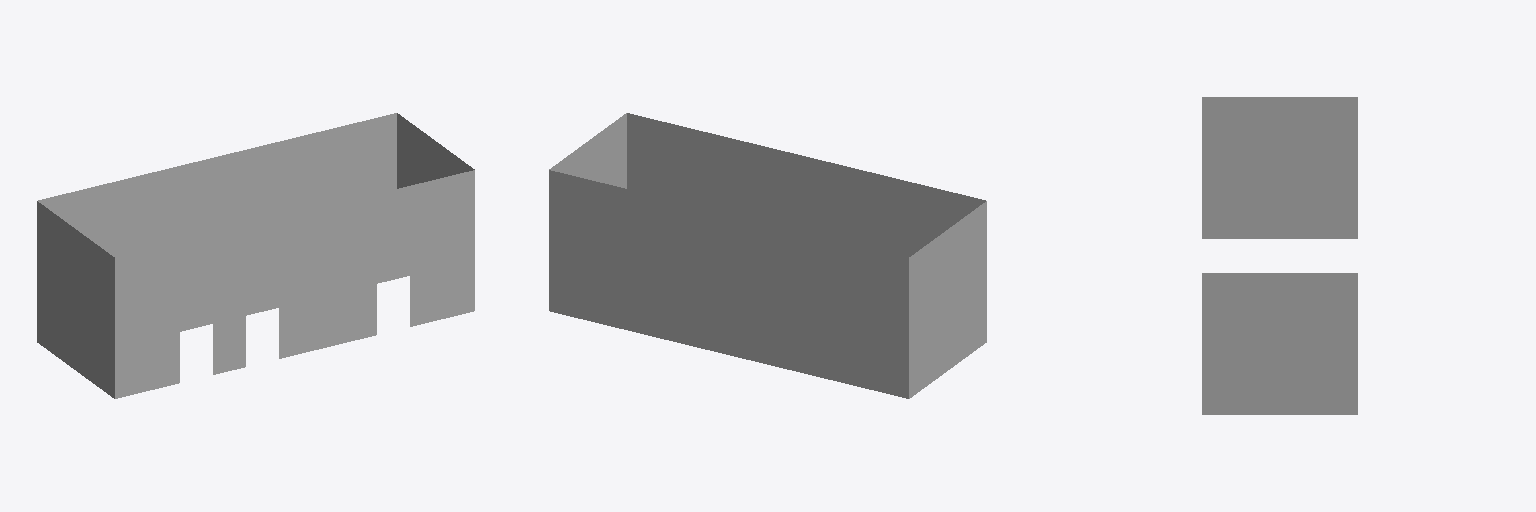
The model's file is Corridor.obj.
3 views of the same model, side by side, from view 1: azimuth 30°, elevation 25°; view 2: azimuth 150°, elevation 25°; view 3: azimuth 270°, elevation 25° (orthographic).
Parts seen in each view (by area): view 1: Plane, Plane.001; view 2: Plane, Plane.001; view 3: Plane.001.
Part boxes in pixels (bbox=[...]): Plane: bbox=[37, 113, 474, 398]; Plane.001: bbox=[38, 113, 474, 398]; Plane: bbox=[549, 113, 986, 398]; Plane.001: bbox=[549, 113, 980, 398]; Plane.001: bbox=[1202, 97, 1357, 414].
Bounding box in the file's own units: 8 × 3 × 3.